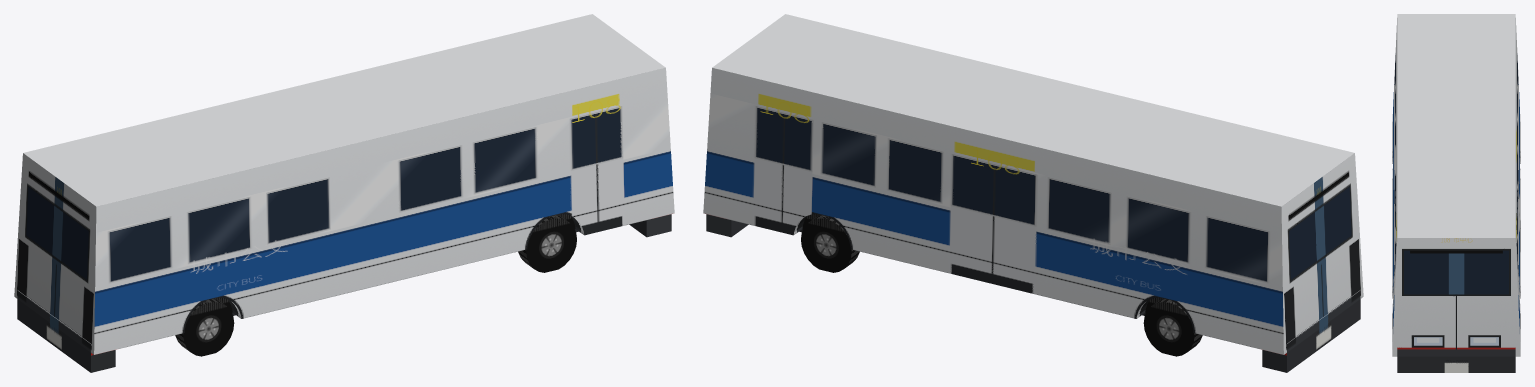
File: bus.glb
3 renders of one model, left to right at view 1: azimuth 30°, elevation 25°; view 2: azimuth 150°, elevation 25°; view 3: azimuth 270°, elevation 25°, orthographic. The views are drawn at different scales.
Parts seen in each view (by area): view 1: bus; view 2: bus; view 3: bus.
Part boxes in pixels (bbox=[...]): bus: bbox=[14, 14, 674, 372]; bus: bbox=[703, 14, 1363, 372]; bus: bbox=[1392, 14, 1520, 372].
Bounding box in the file's own units: 10.5 × 3.05 × 2.5.
6 materials, 5 textured.
